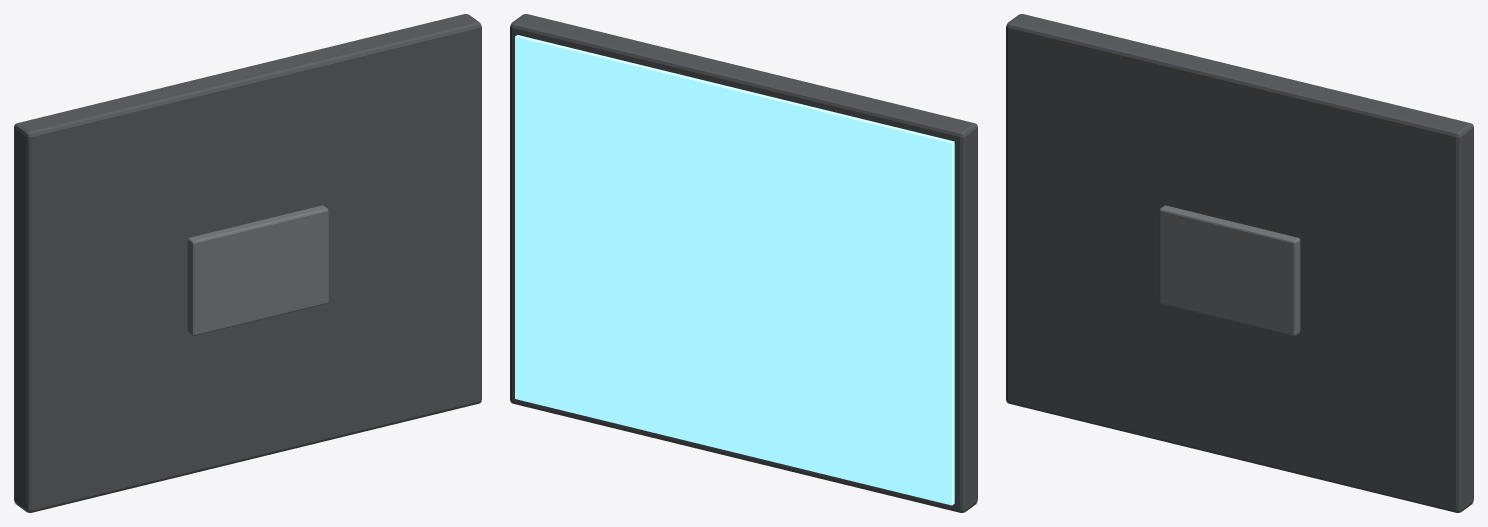
File: media_panel.glb
The picture shows the model from 3 angles, left to right: view 1: azimuth 30°, elevation 25°; view 2: azimuth 150°, elevation 25°; view 3: azimuth 330°, elevation 25°; orthographic projection.
Parts seen in each view (by area): view 1: media_panel; view 2: media_panel; view 3: media_panel.
Boxes of the visible parts, box(x1,y1,x2,y2) form: media_panel: box(14, 14, 481, 512); media_panel: box(510, 14, 977, 512); media_panel: box(1006, 14, 1473, 512).
Bounding box in the file's own units: 1 × 0.8 × 0.09.
